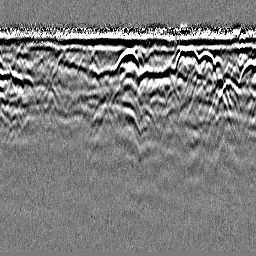cavity: (112, 48, 141, 74)
